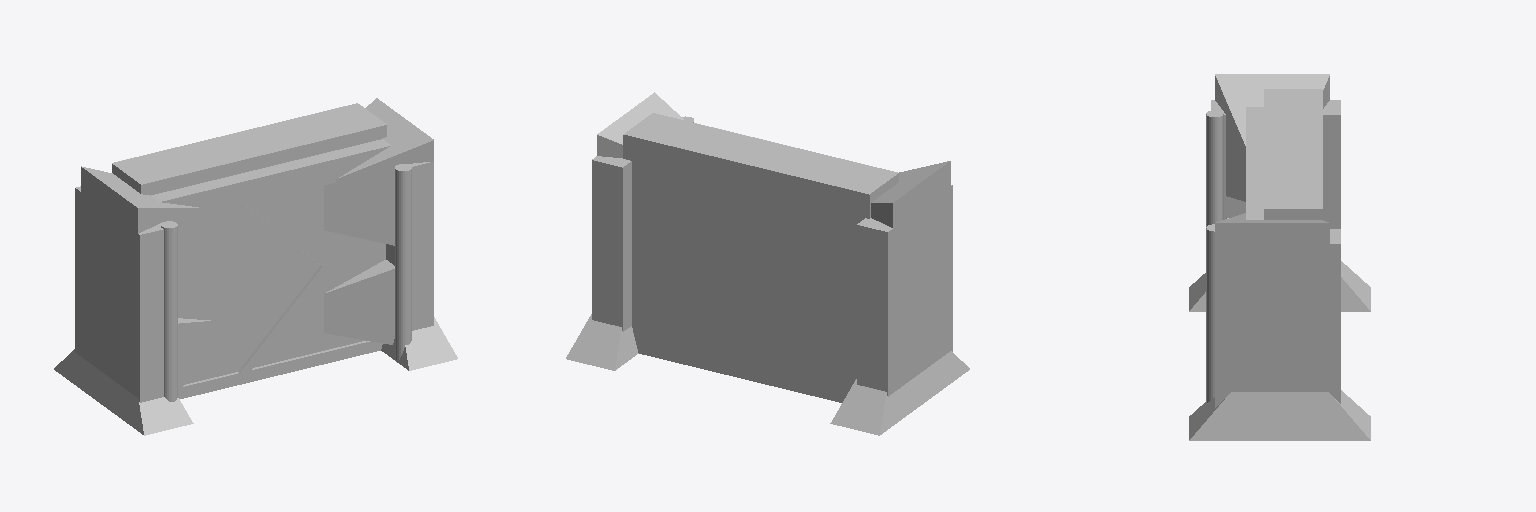
The model's file is Sci-fi Door.obj.
3 renders of one model, left to right at view 1: azimuth 30°, elevation 25°; view 2: azimuth 150°, elevation 25°; view 3: azimuth 270°, elevation 25°, orthographic.
Visible parts, largest first — view 1: mergedBlocks; view 2: mergedBlocks; view 3: mergedBlocks.
Boxes of the visible parts, x1,y1,x2,y2 form: mergedBlocks: [54, 98, 457, 435]; mergedBlocks: [566, 92, 969, 435]; mergedBlocks: [1189, 74, 1370, 440].
Size of the model in its own units: 2.02 by 1.33 by 1.01.